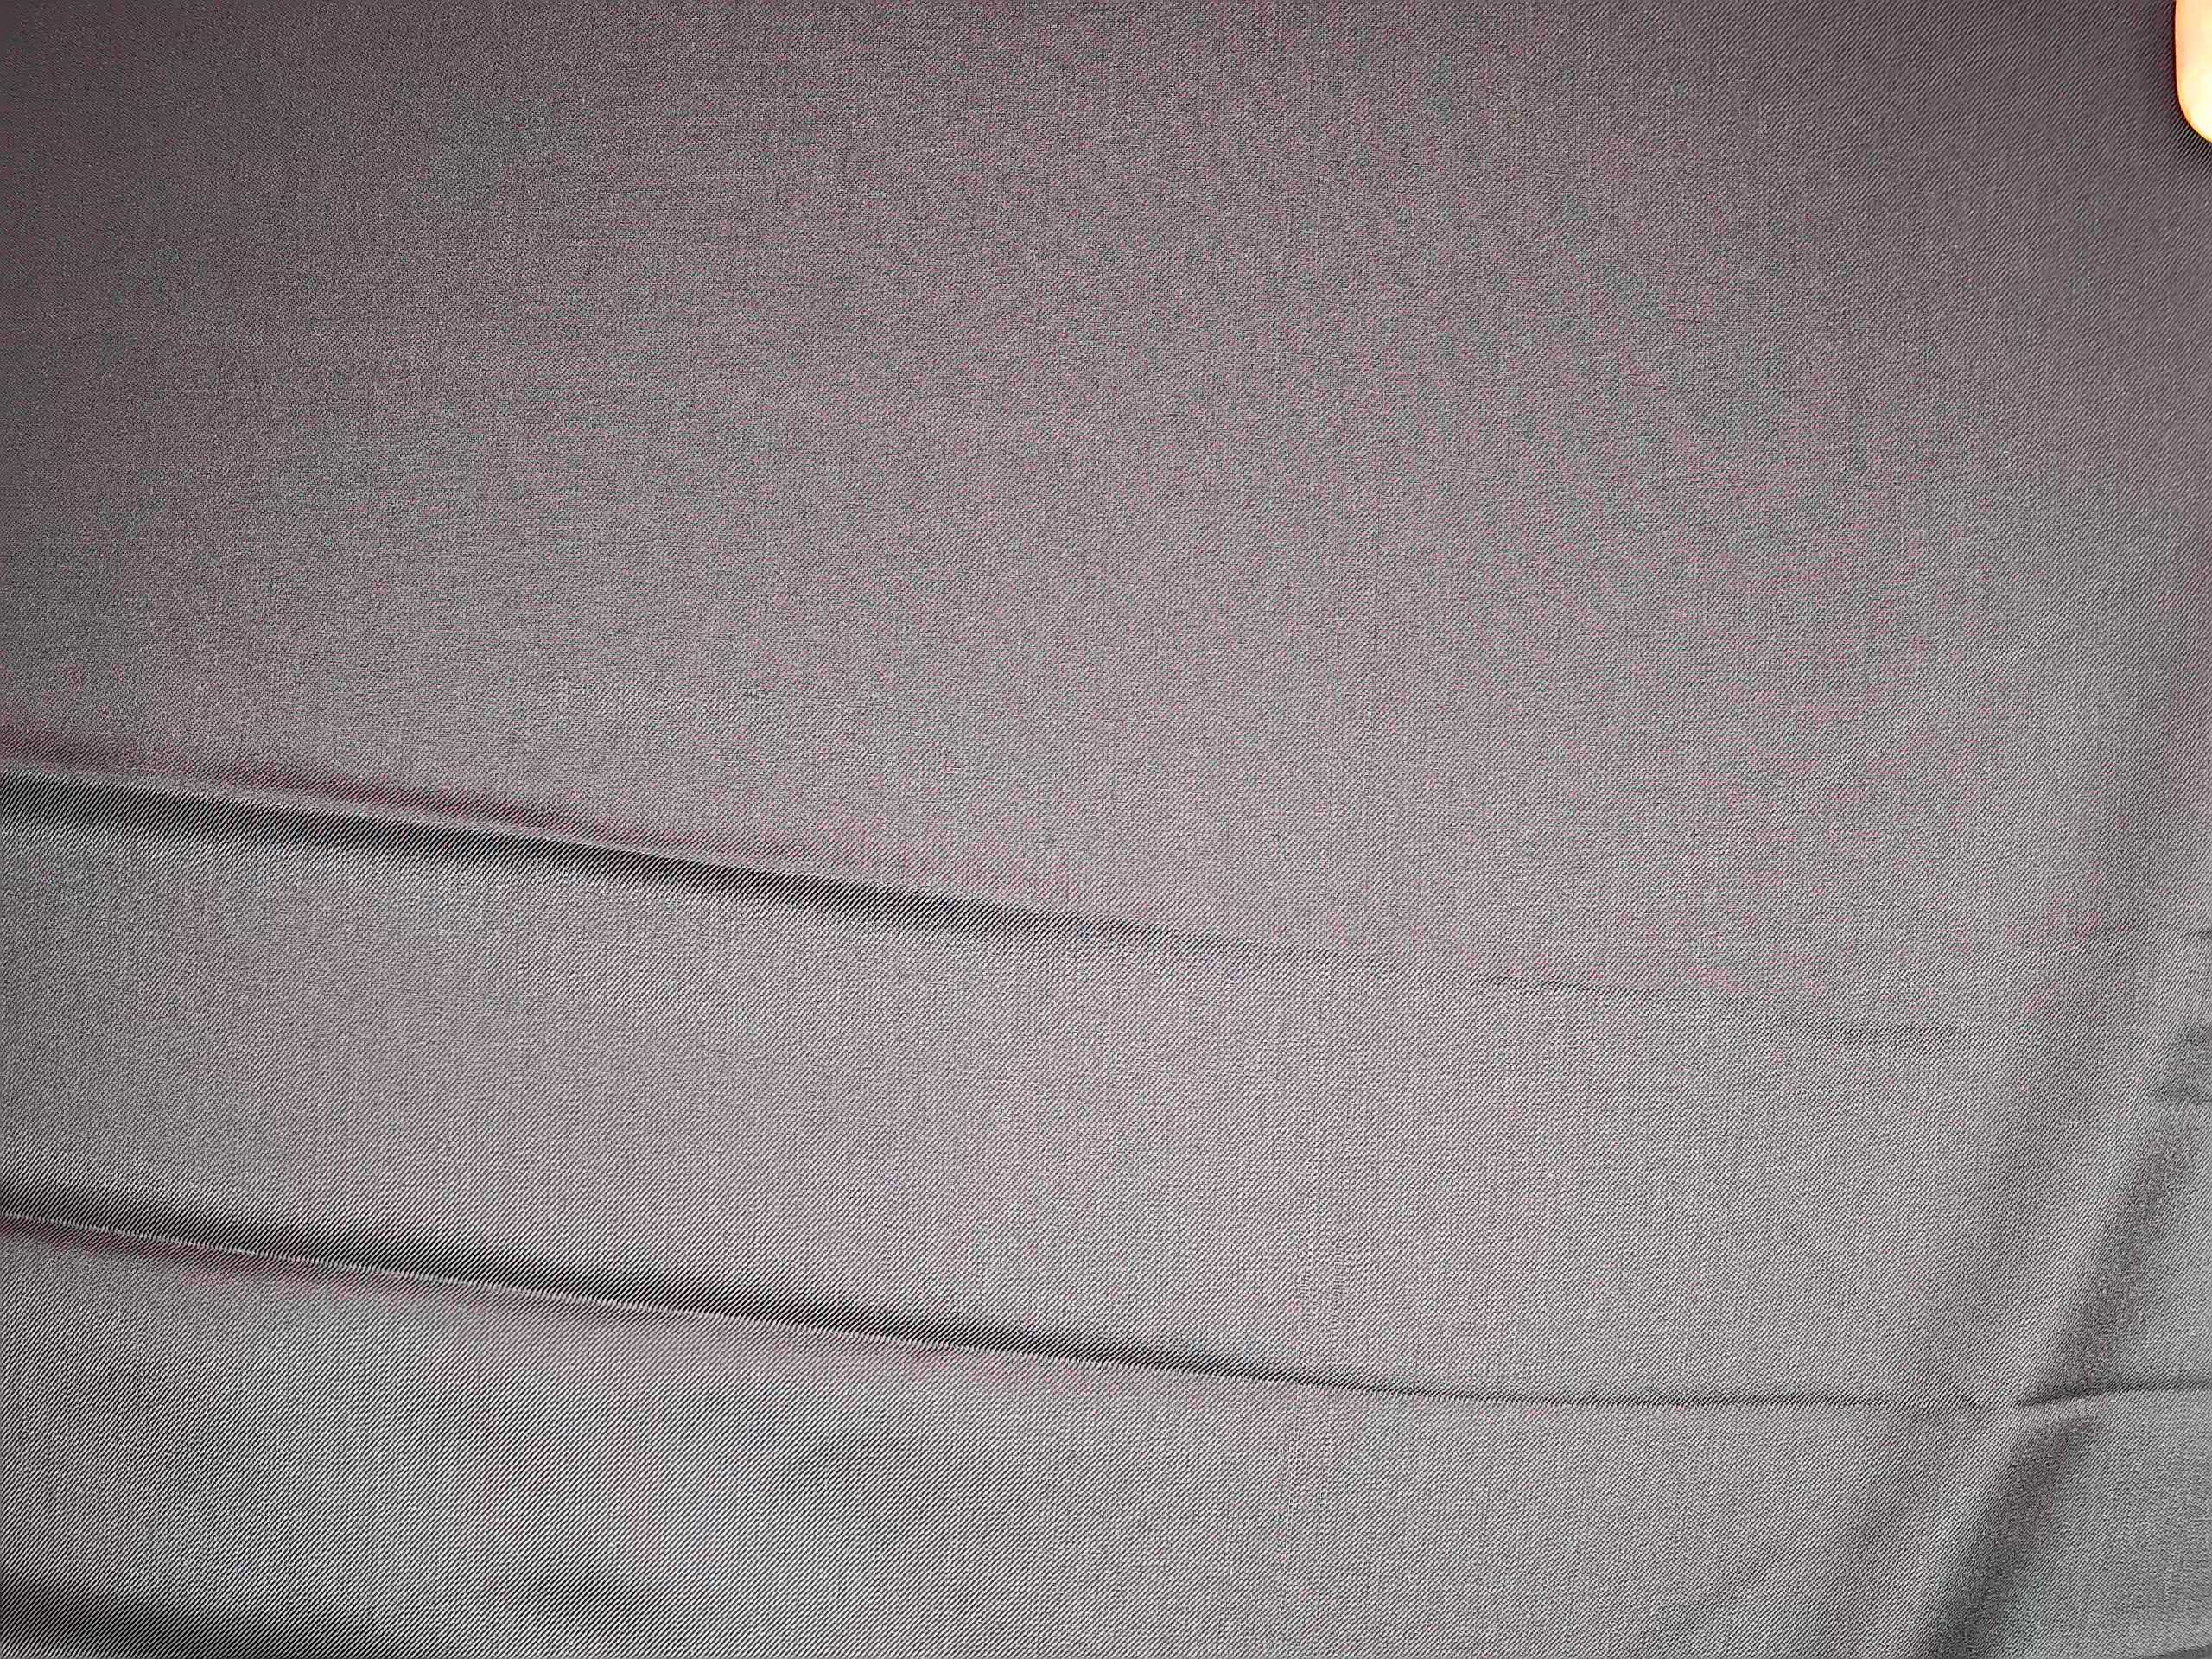hanging-warp: (1273, 960, 1406, 1589)
